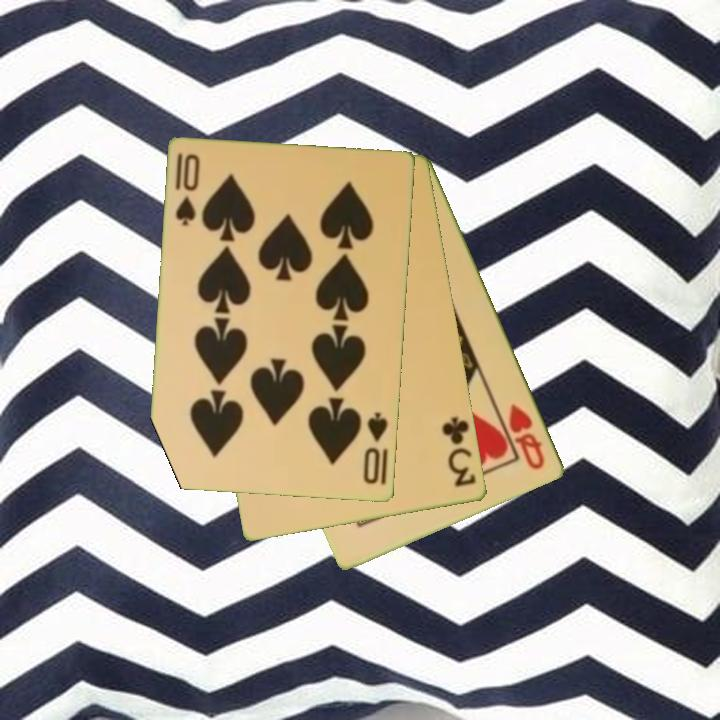10s: (172, 150, 203, 230), (360, 409, 391, 487)
3c: (439, 413, 480, 490)
Qh: (506, 400, 548, 473)
